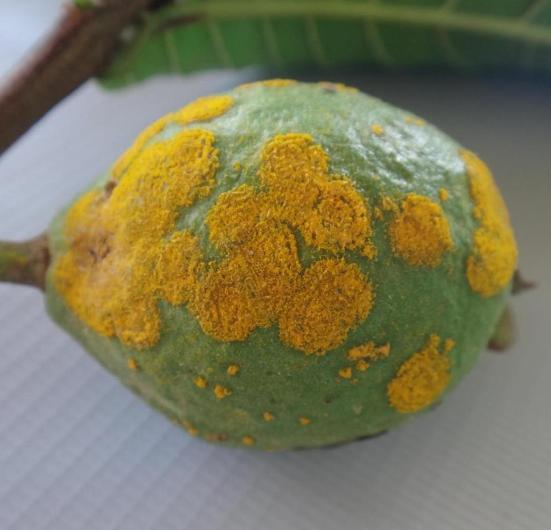guava_C: (45, 78, 522, 454)
